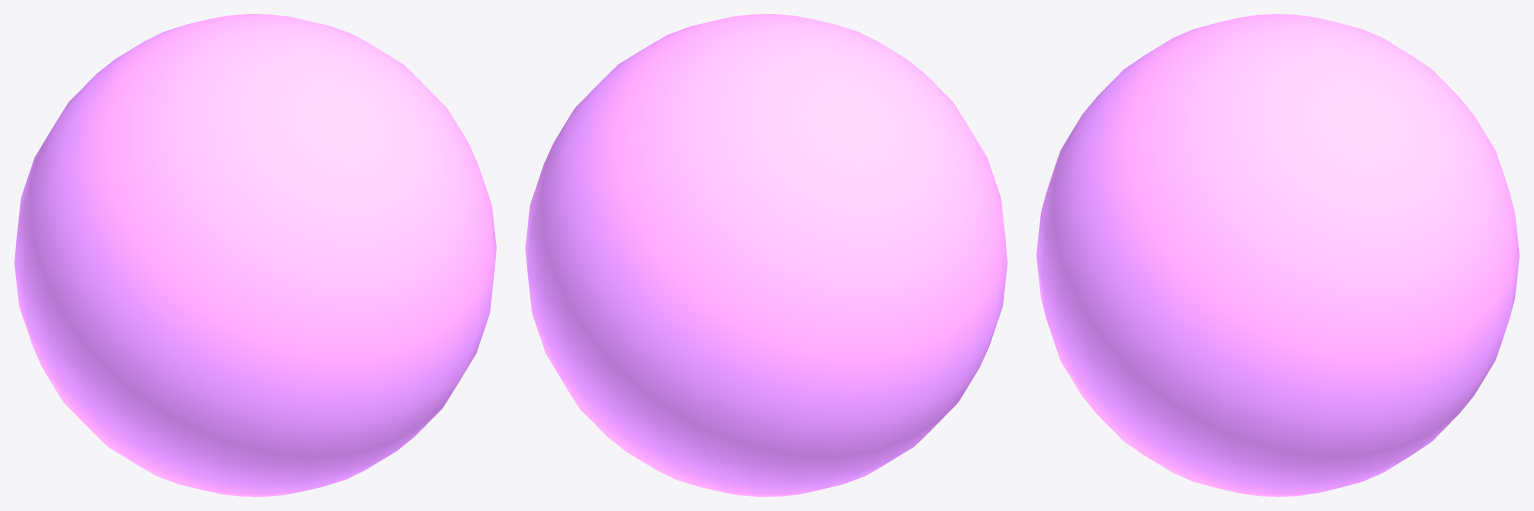
Rendered from Orb_07_紫红灵珠.glb.
3 views of the same model, side by side, from view 1: azimuth 30°, elevation 25°; view 2: azimuth 150°, elevation 25°; view 3: azimuth 270°, elevation 25° (orthographic).
Visible parts, largest first — view 1: Sphere; view 2: Sphere; view 3: Sphere.
Part boxes in pixels (x1,y1,x2,y2): Sphere: [14, 14, 496, 496]; Sphere: [525, 14, 1007, 496]; Sphere: [1036, 14, 1519, 496].
Size of the model in its own units: 0.96 by 0.96 by 0.96.
